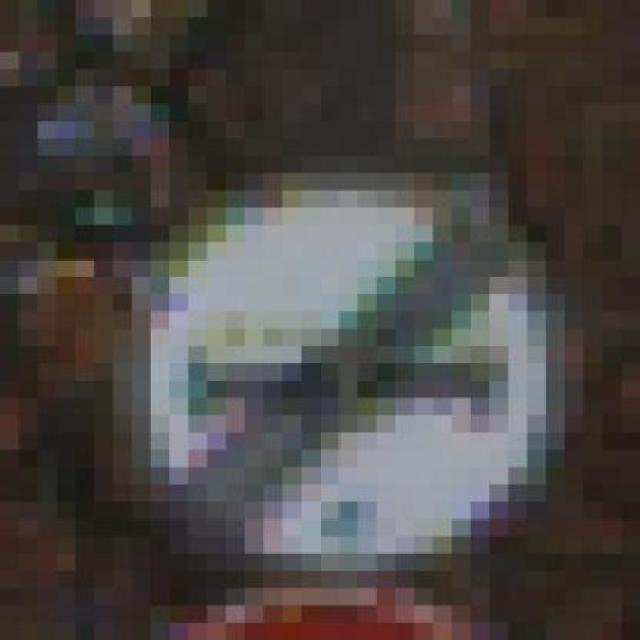No_Over_Taking: (56, 103, 602, 571)
